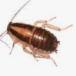cockroach: (6, 21, 59, 55)
